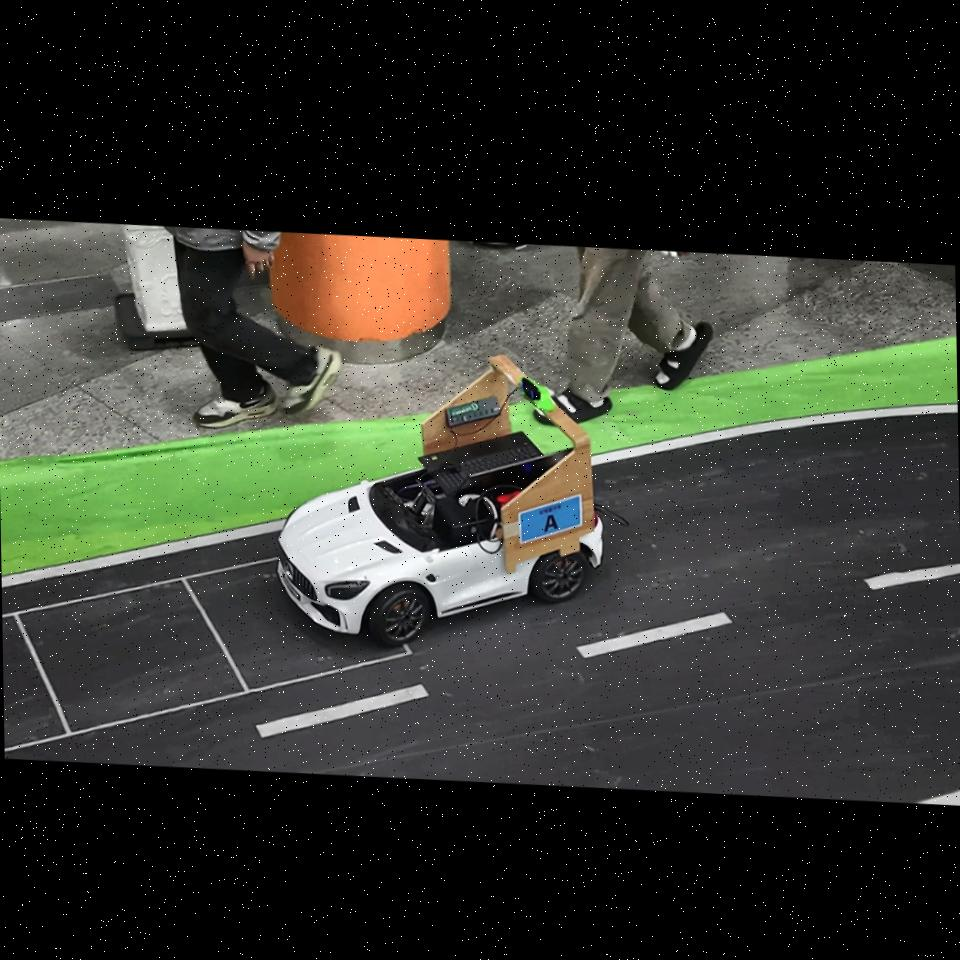broken_line: (255, 684, 429, 738), (576, 612, 733, 659), (862, 564, 960, 590)
